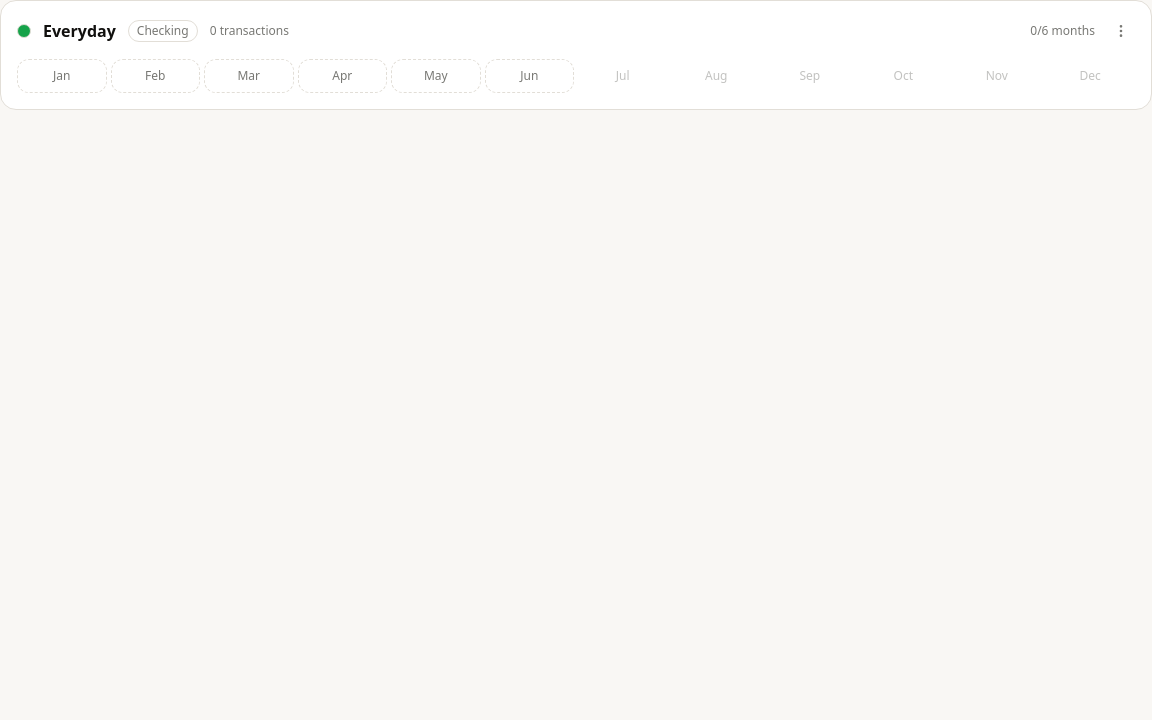
AccountCard › opens the account's statement formats from the ··· menu
Step 1. Click the button named "More actions for Everyday" → coordinates (1121, 31), box [1107, 17, 1135, 45]
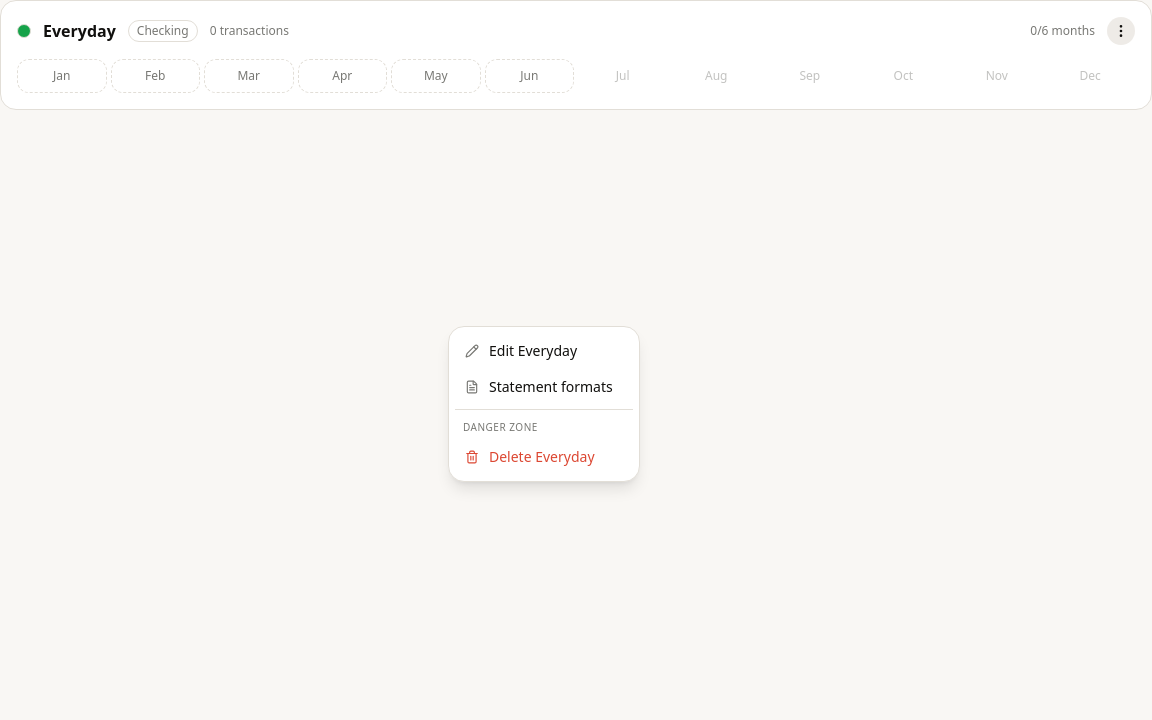
Step 2. Click the menu item "Statement formats" → coordinates (539, 386), box [465, 377, 613, 396]
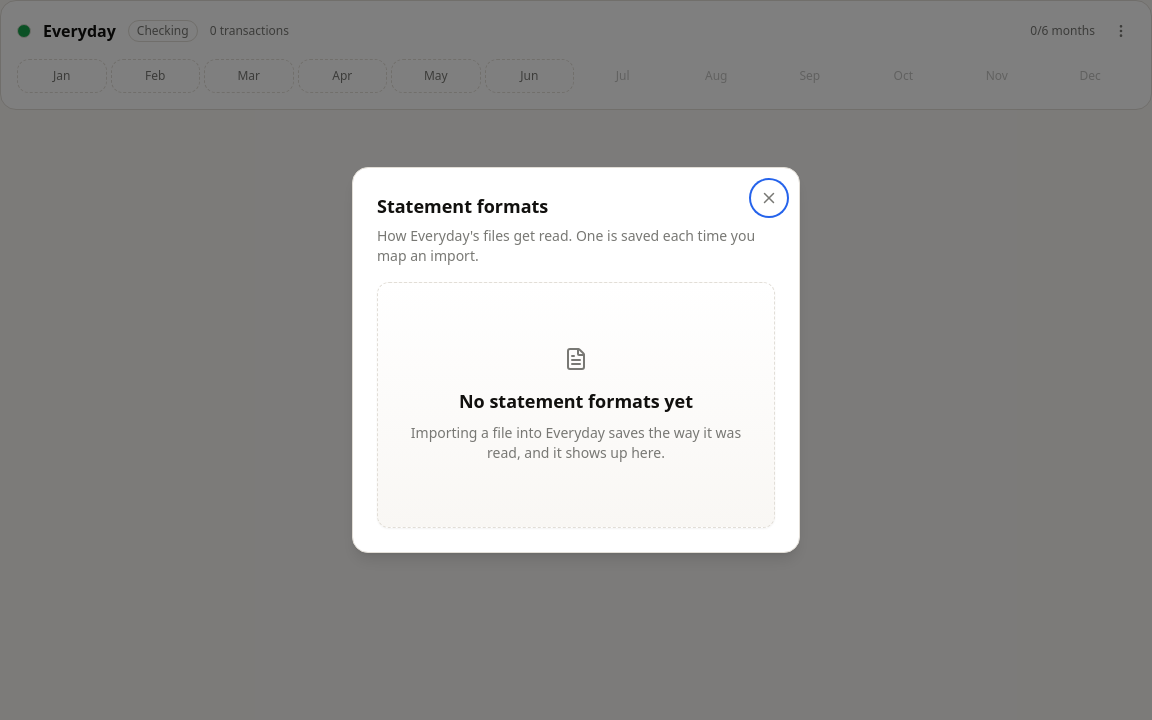
expect the dialog "Statement formats" shows "How Everyday's files get read": met, box [352, 167, 800, 553]
